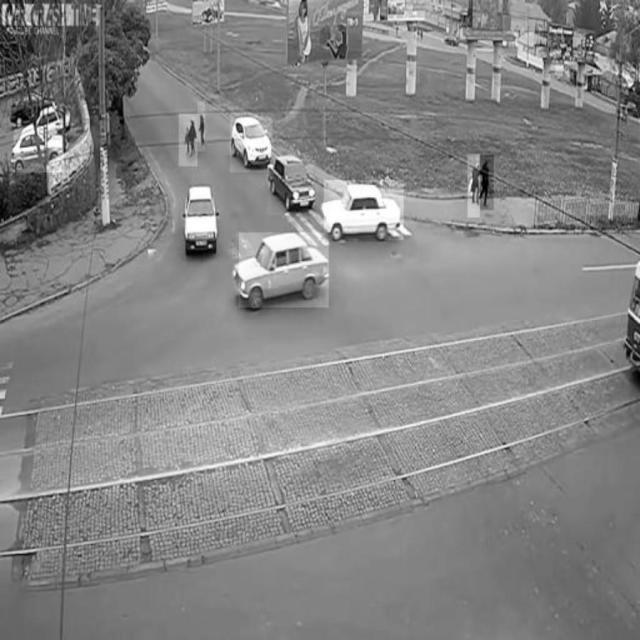person: (179, 114, 197, 166), (480, 156, 494, 211), (468, 154, 480, 218), (197, 102, 205, 152)
vehicle: (239, 233, 329, 307), (324, 180, 404, 240), (267, 152, 313, 216), (230, 112, 272, 172), (183, 187, 215, 265), (14, 125, 64, 172)
